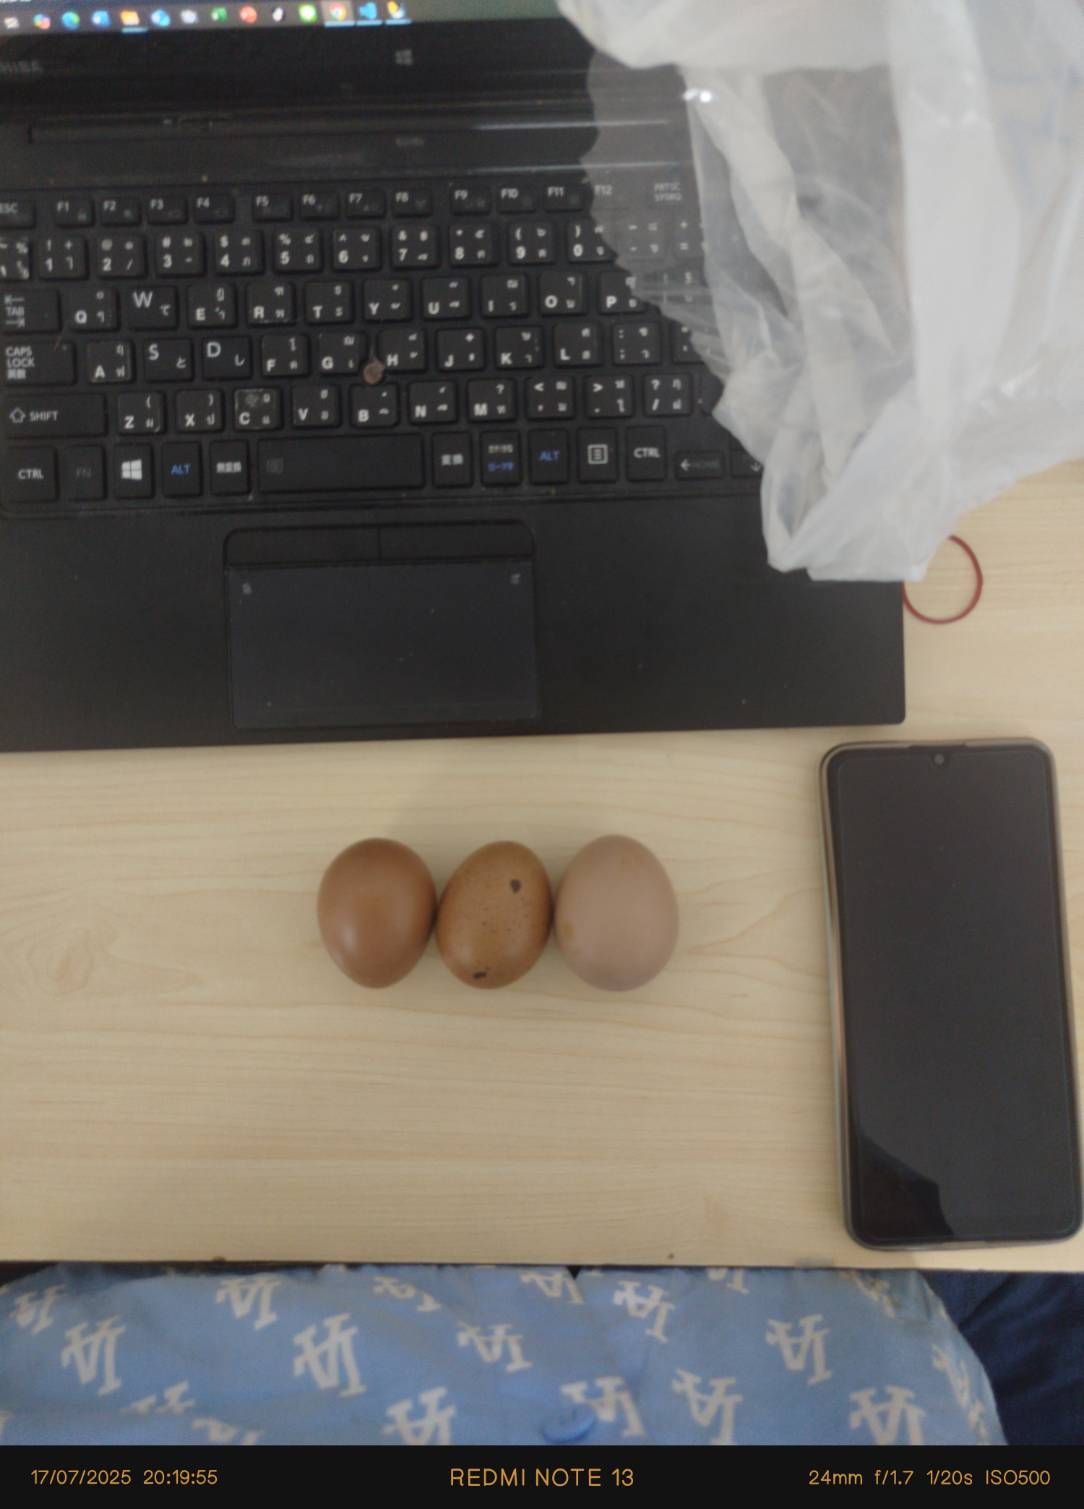egg6: (558, 828, 690, 997), (308, 837, 437, 986), (442, 837, 557, 999)
